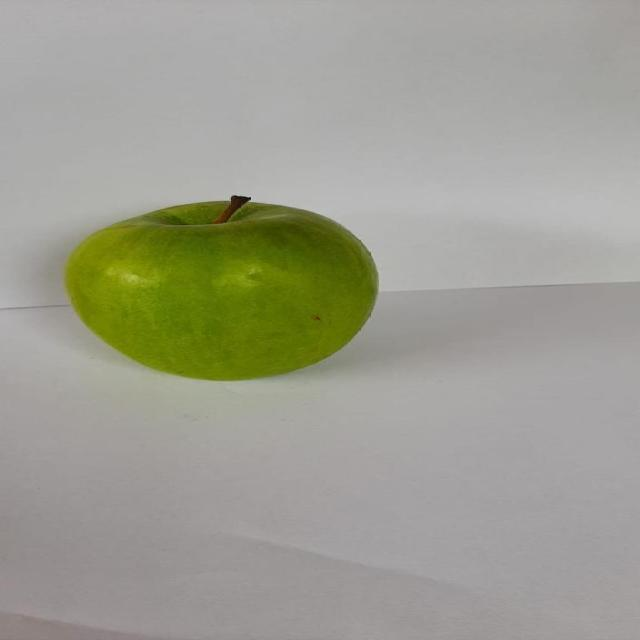50-_ripeness: (59, 190, 394, 388)
